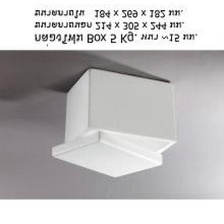foam_box: (42, 63, 184, 183)
